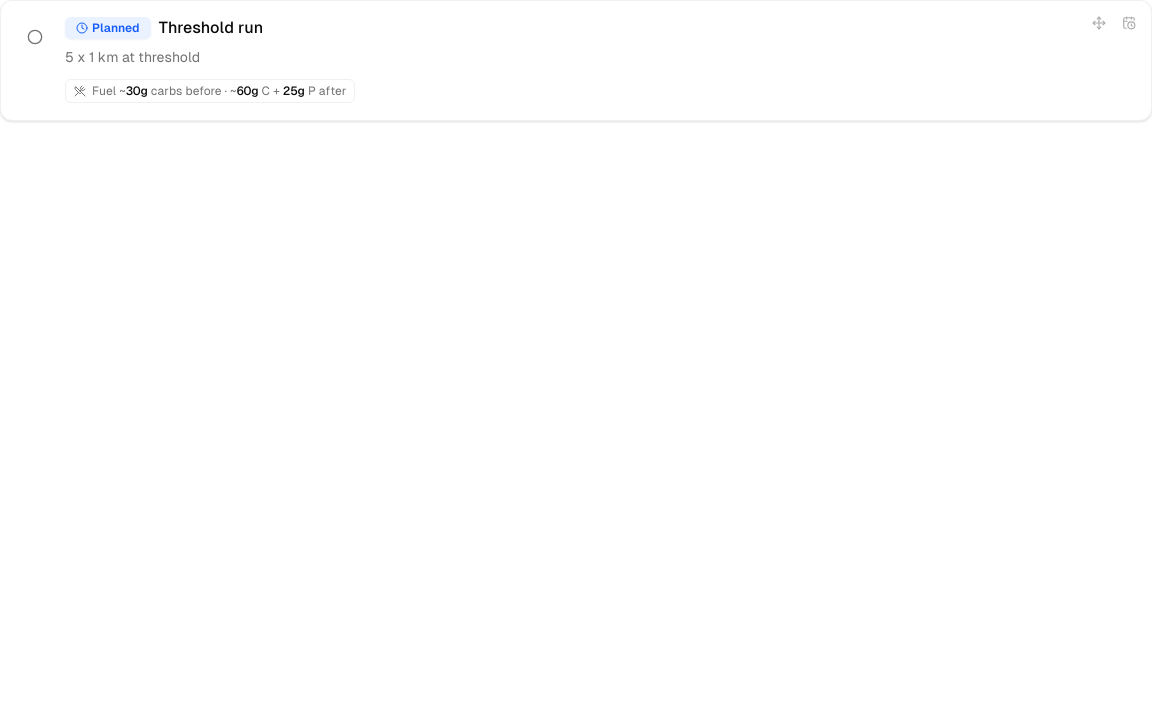
Test: TimelineWorkoutCard Pick date dialog (CL11) › keeps confirm disabled for the session's own date and for a cleared field
Click the button with test id "move-menu-plan-pd-1" at x=1129, y=23, box [1115,9,1143,37]
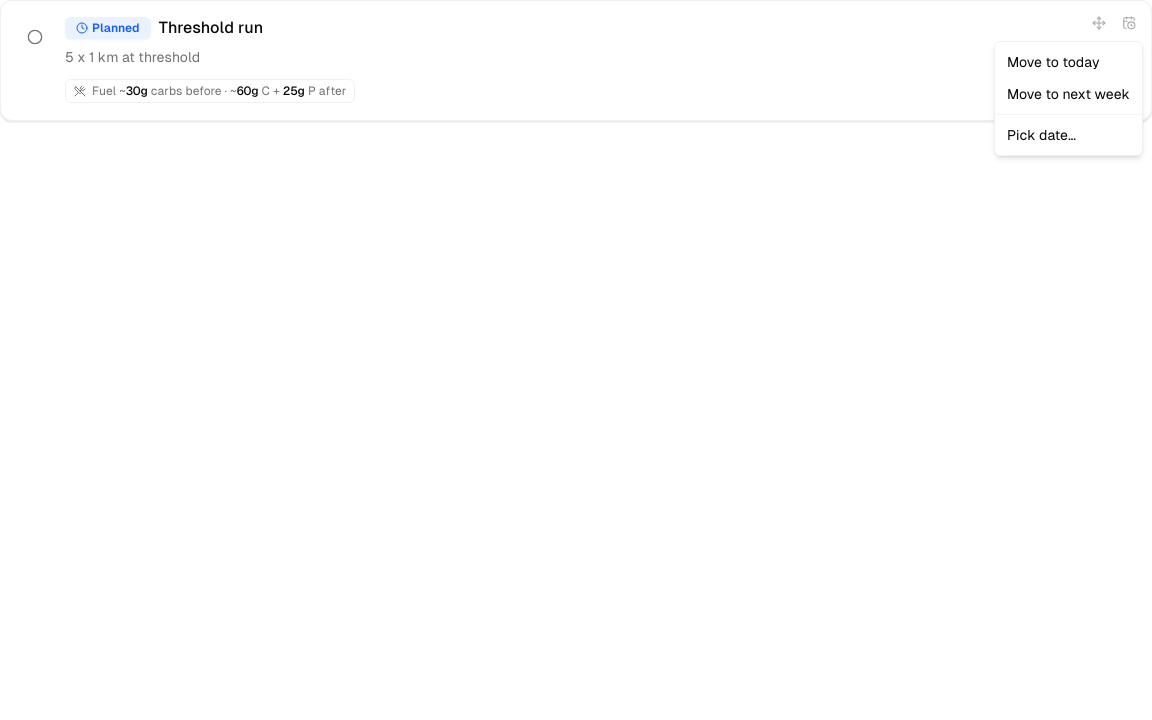
Click the menu item with test id "move-pick-date-plan-pd-1" at x=1042, y=135, box [1007,127,1076,143]
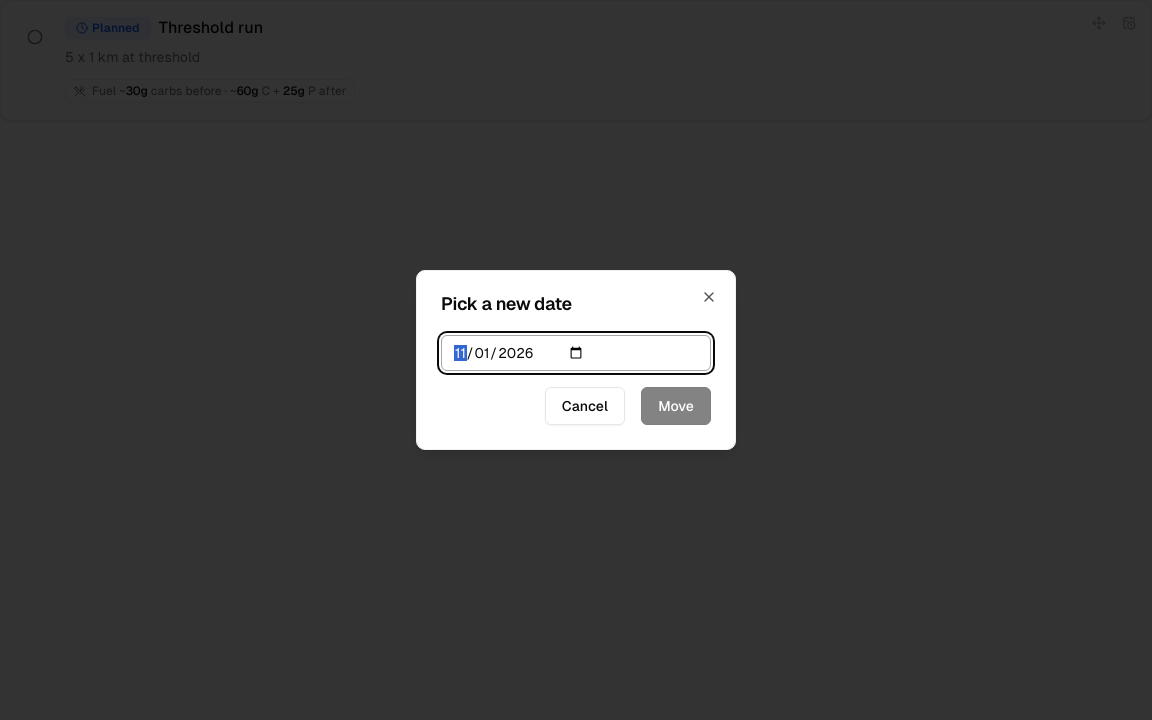
Check: the button with test id "move-date-confirm-plan-pd-1" is disabled, box [641,387,711,425]
Clear the date field with test id "move-date-input-plan-pd-1" at x=576, y=353, box [441,335,711,371]
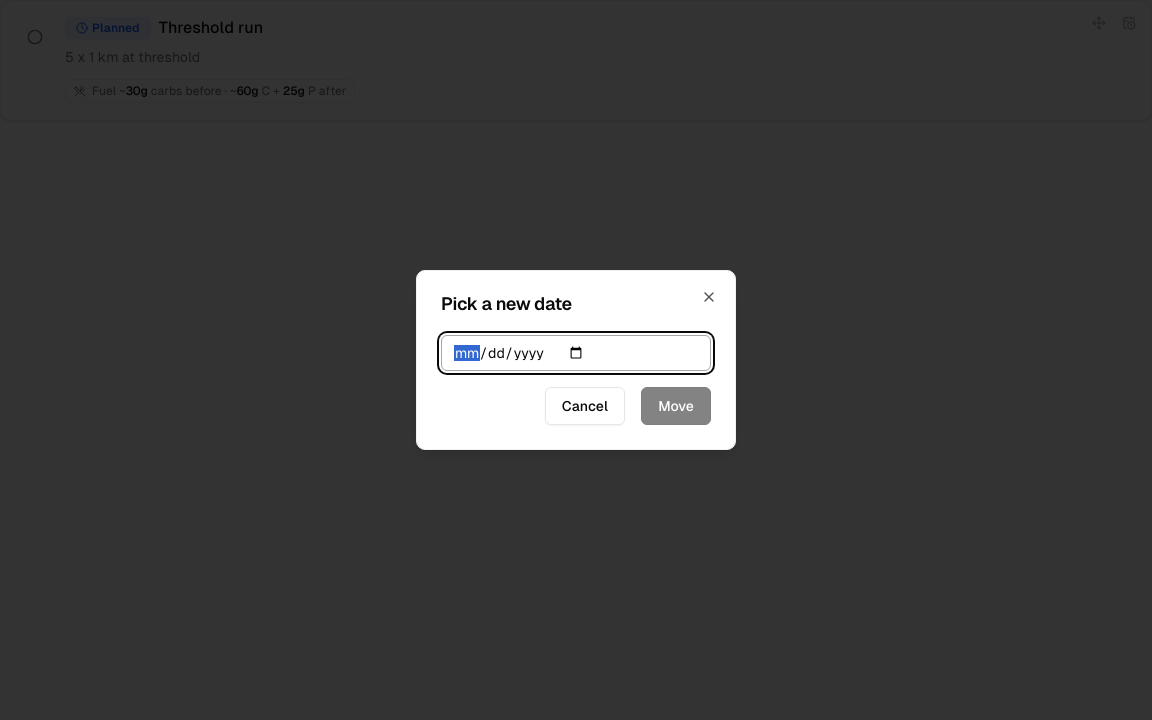
Check: the button with test id "move-date-confirm-plan-pd-1" is disabled, box [641,387,711,425]
Click the button "Cancel" at x=585, y=406, box [545,387,625,425]
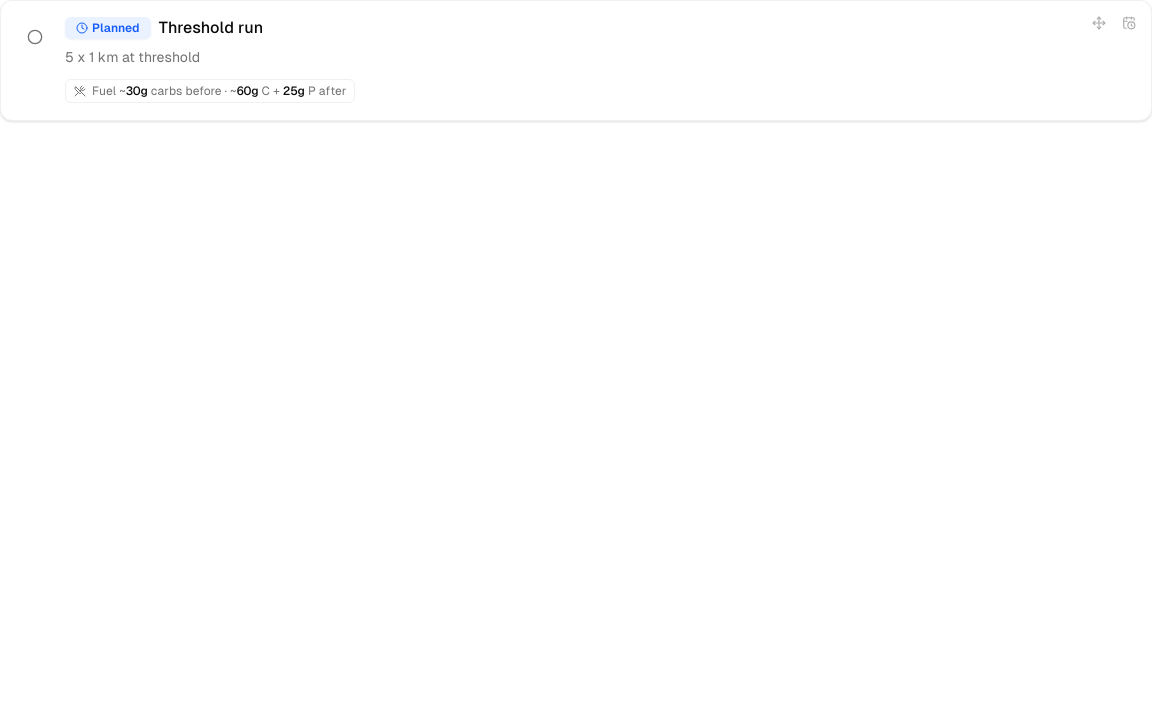
Check: the dialog with test id "move-date-dialog-plan-pd-1" is gone
